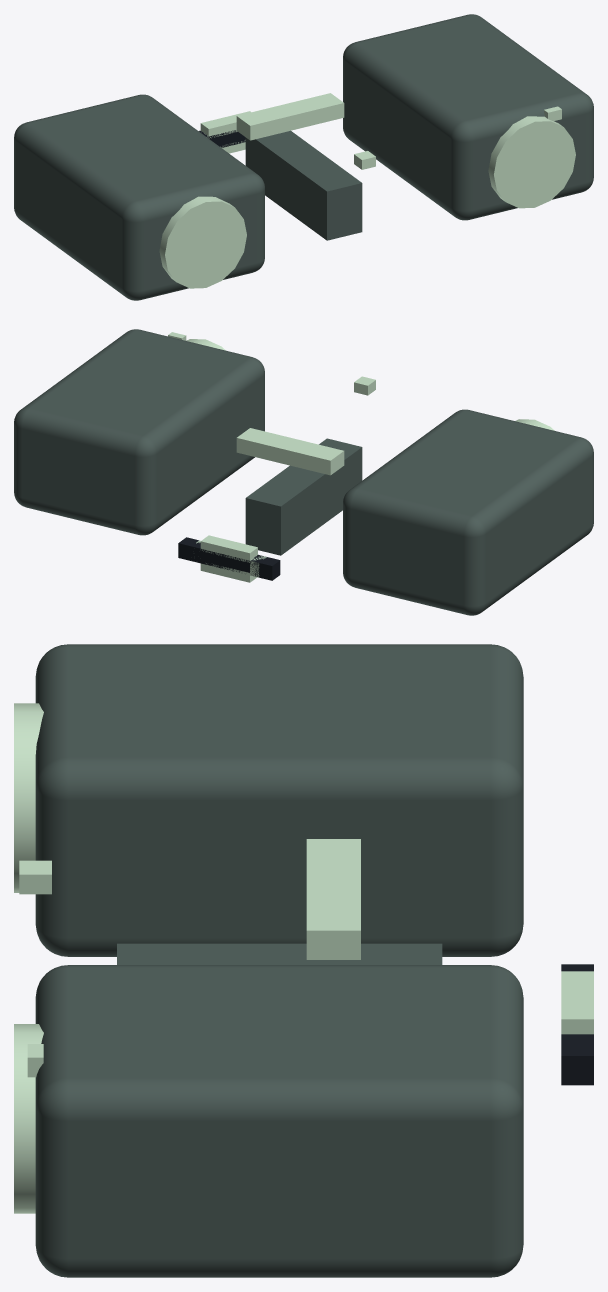
3 views of the same model, one above another, from view 1: azimuth 30°, elevation 25°; view 2: azimuth 150°, elevation 25°; view 3: azimuth 270°, elevation 25° (orthographic). The views are drawn at different scales.
Parts seen in each view (by area): view 1: speaker--0.14, speaker-0.14, audio-body, speaker-cone--0.14, speaker-cone-0.14, display-surface, usb-frame-top, usb-port-back; view 2: speaker--0.14, speaker-0.14, audio-body, display-surface, usb-port-back, usb-frame-top, usb-frame-bottom; view 3: speaker-0.14, speaker--0.14, display-surface, audio-body, speaker-cone-0.14, speaker-cone--0.14, usb-frame-top, usb-port-back, audio-accent.
Boxes of the visible parts, left/top/right/bottom form: speaker--0.14: left=14, top=94, right=264, bottom=300; speaker-0.14: left=343, top=14, right=593, bottom=220; audio-body: left=245, top=130, right=362, bottom=240; speaker-cone--0.14: left=159, top=196, right=246, bottom=288; speaker-cone-0.14: left=488, top=116, right=575, bottom=208; display-surface: left=236, top=93, right=344, bottom=140; usb-frame-top: left=200, top=111, right=250, bottom=138; usb-port-back: left=199, top=130, right=245, bottom=147; speaker--0.14: left=343, top=409, right=593, bottom=615; speaker-0.14: left=14, top=329, right=264, bottom=535; audio-body: left=245, top=438, right=362, bottom=555; display-surface: left=236, top=428, right=344, bottom=475; usb-port-back: left=178, top=537, right=280, bottom=580; usb-frame-top: left=200, top=535, right=257, bottom=562; usb-frame-bottom: left=200, top=563, right=256, bottom=582; speaker-0.14: left=35, top=965, right=523, bottom=1277; speaker--0.14: left=35, top=644, right=523, bottom=956; display-surface: left=306, top=839, right=360, bottom=959; audio-body: left=117, top=943, right=442, bottom=964; speaker-cone-0.14: left=14, top=1024, right=43, bottom=1213; speaker-cone--0.14: left=14, top=703, right=43, bottom=892; usb-frame-top: left=561, top=971, right=593, bottom=1034; usb-port-back: left=561, top=964, right=593, bottom=1085; audio-accent: left=19, top=860, right=51, bottom=894.
Bounding box in the file's own units: 0.4 × 0.08 × 0.214.
